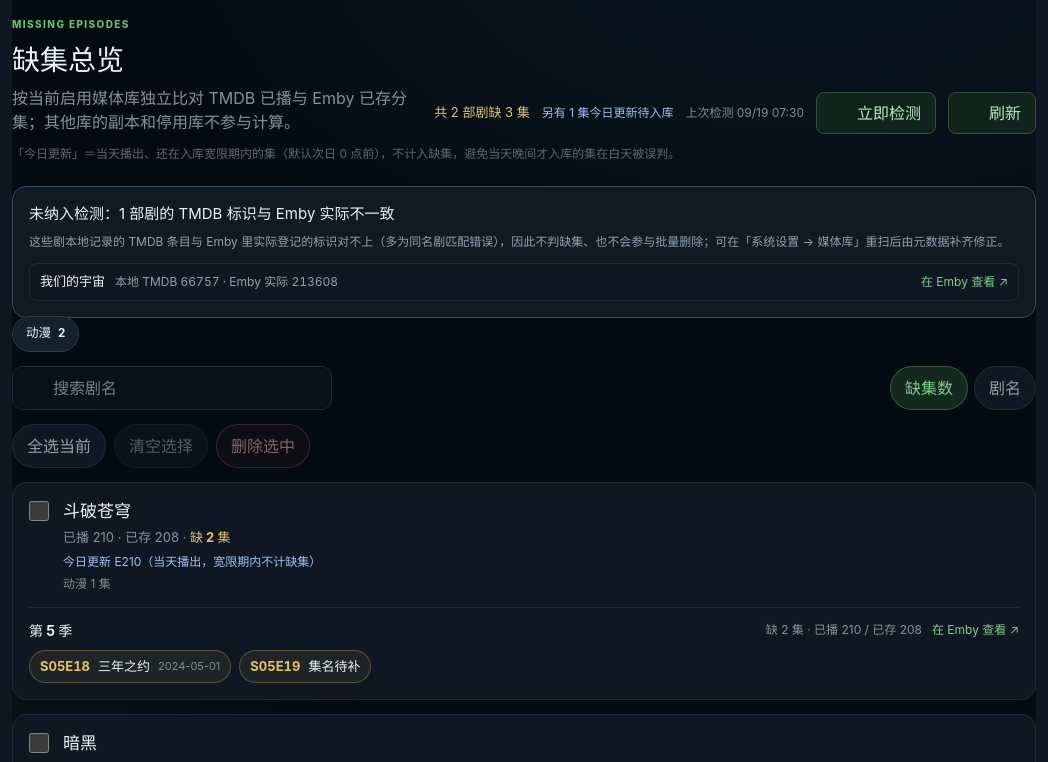
Test: MissingEpisodesView › sorts by title on demand
Click the button "剧名" at coordinates (1005, 388), box [974,366,1036,410]
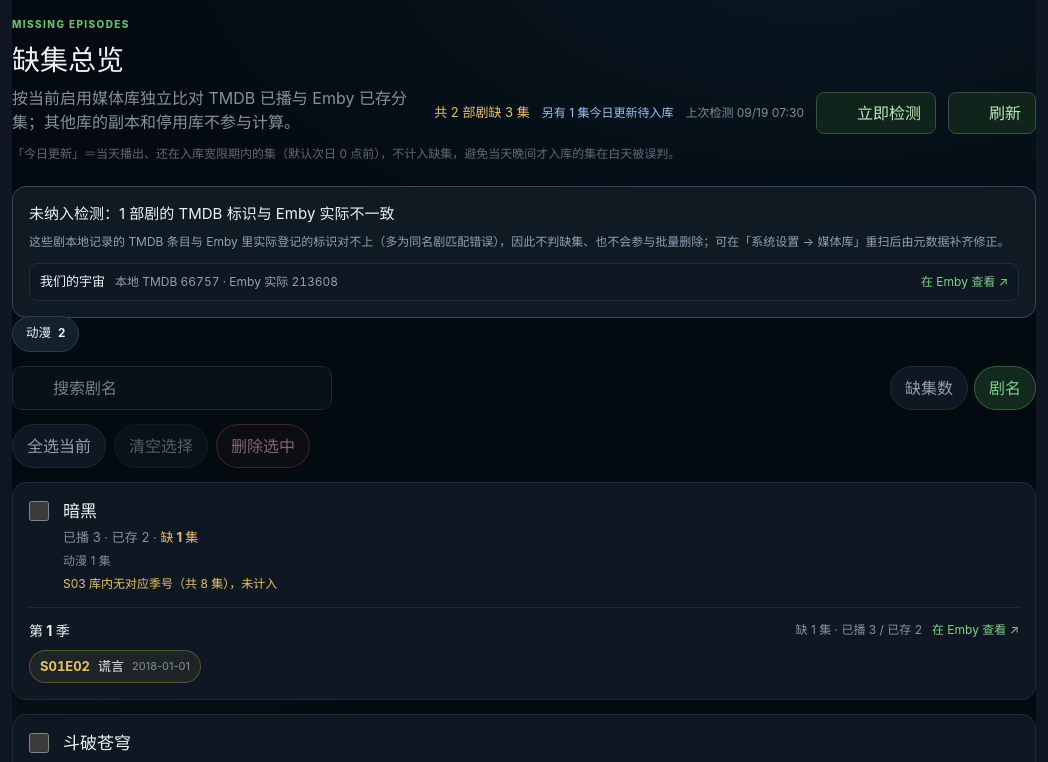
Result: the headings read "暗黑", "斗破苍穹", in this order at [63,501,97,521]; [63,733,131,753]
